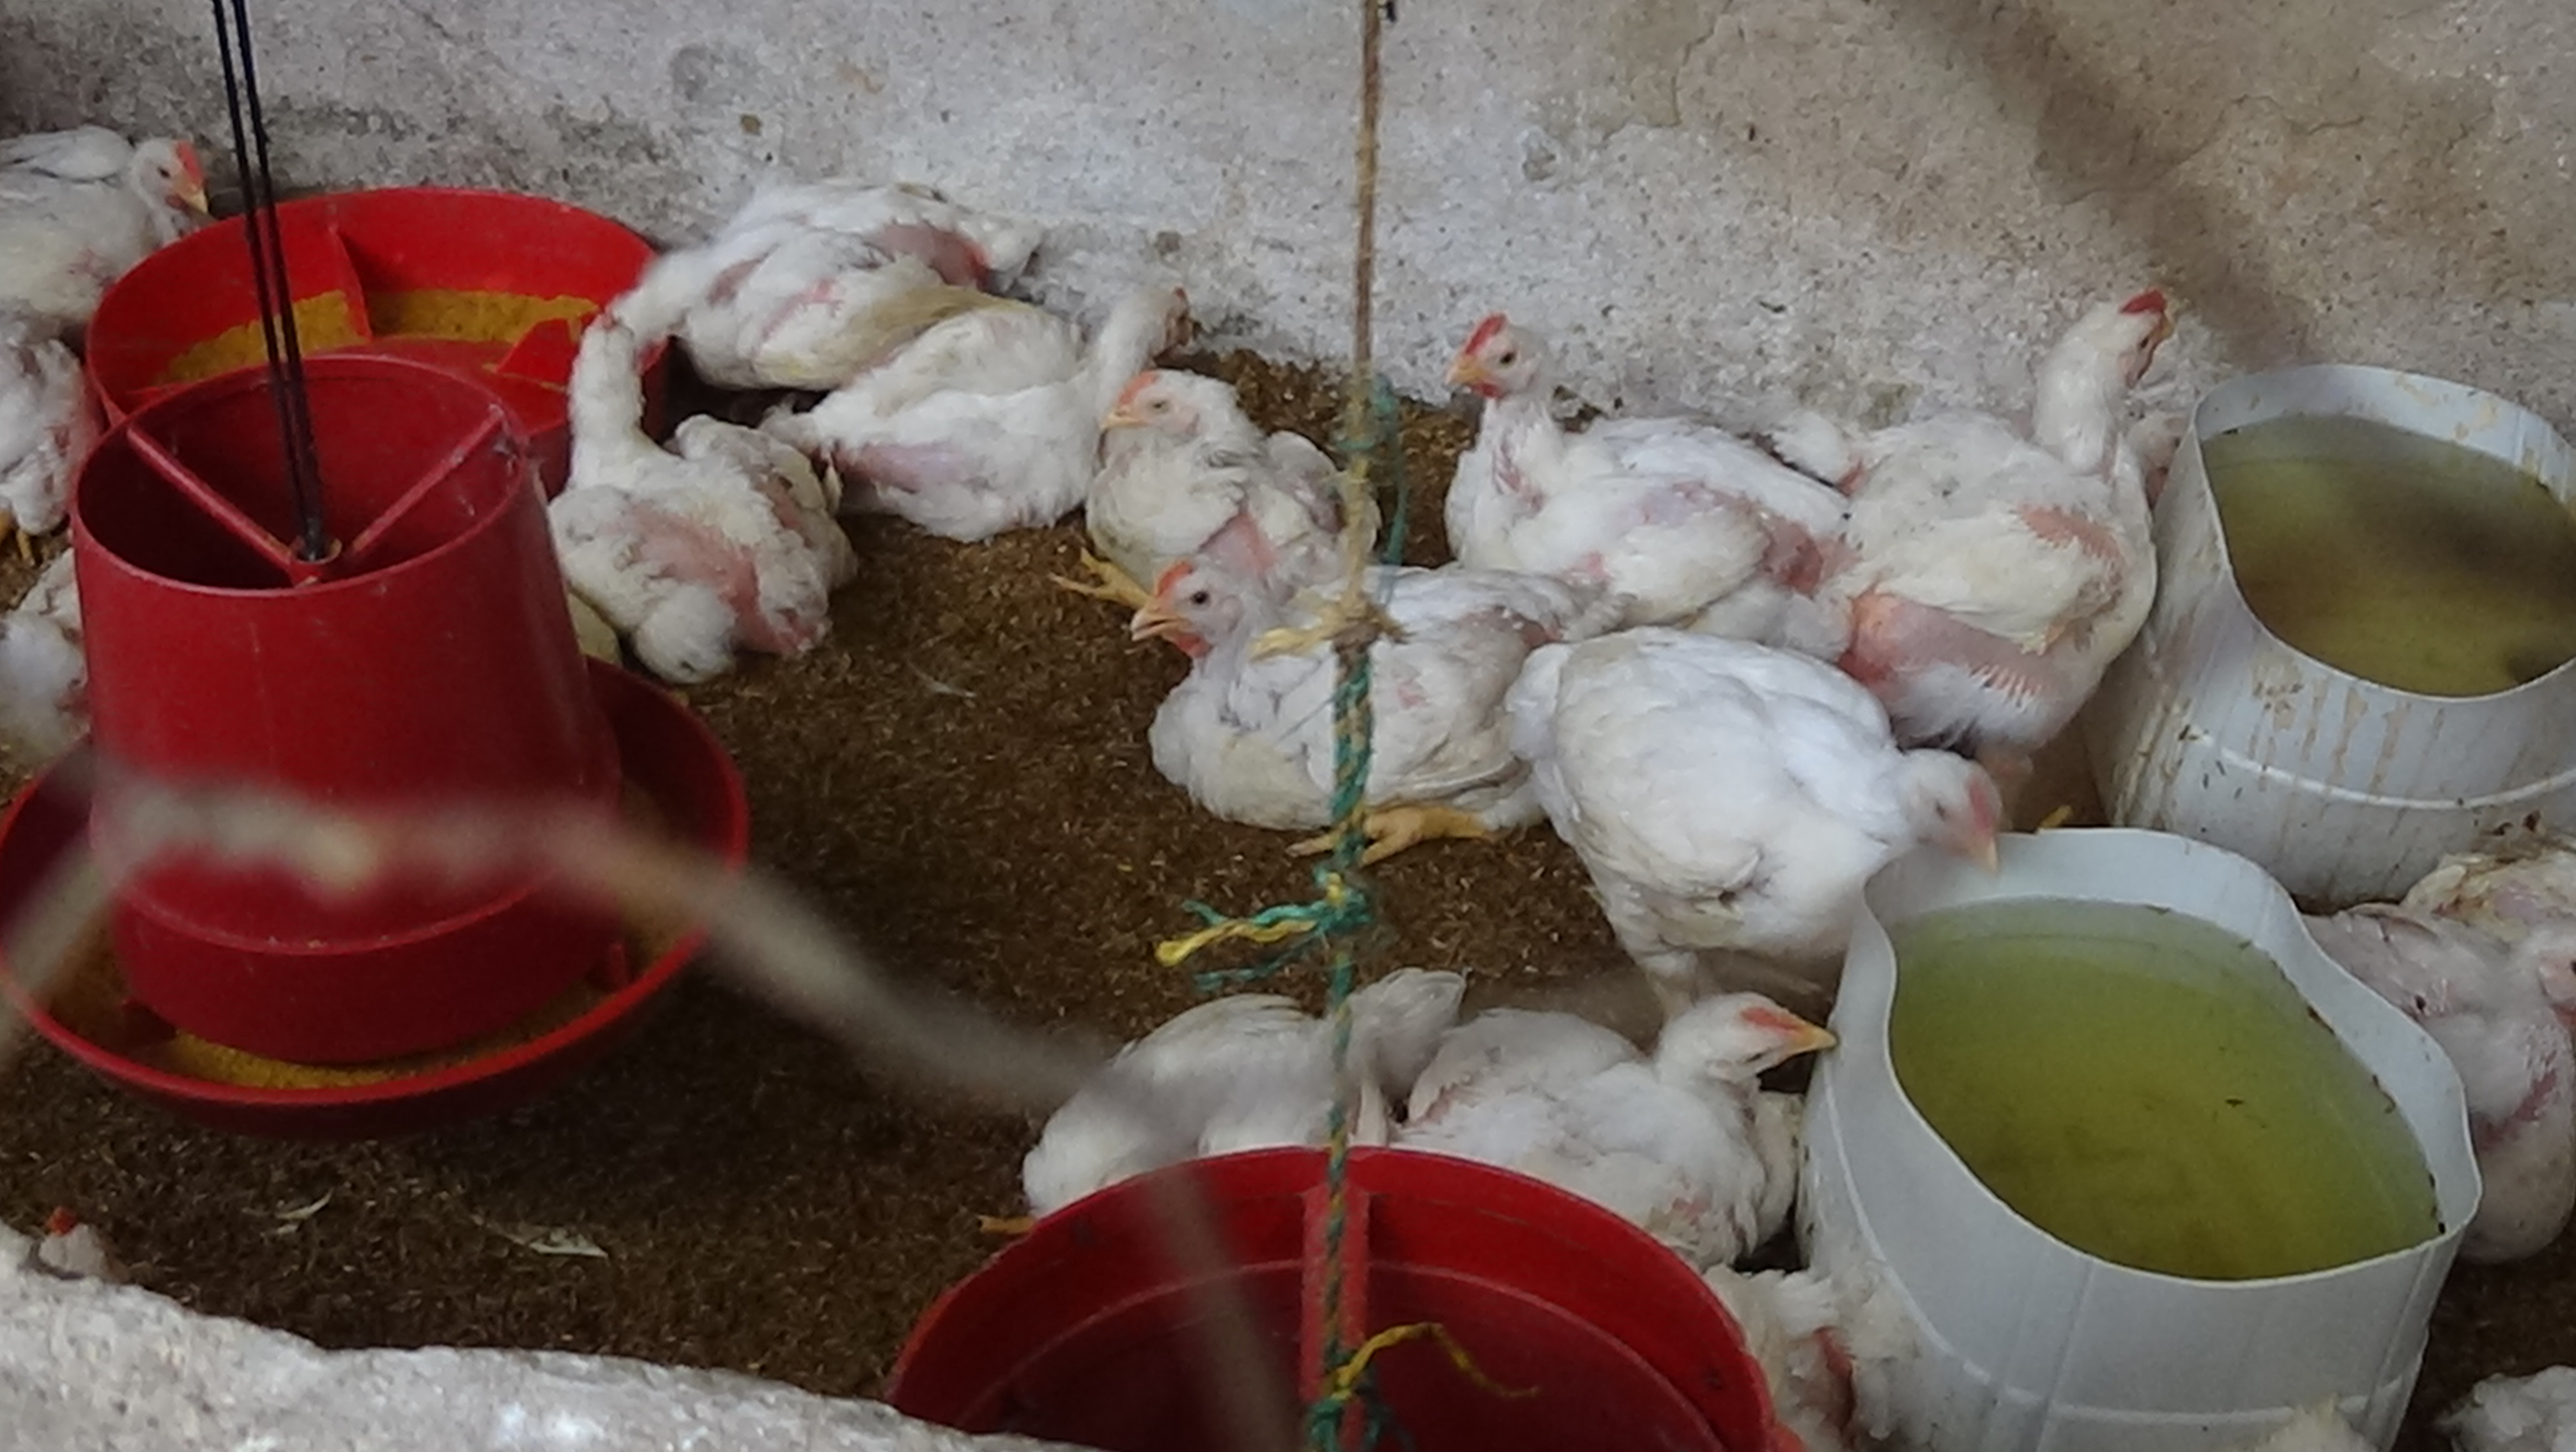Pollos: (1550, 632, 2012, 1015), (1817, 276, 2212, 698), (982, 938, 1477, 1264), (1417, 276, 1835, 650), (1131, 544, 1622, 859), (1394, 956, 1865, 1236), (524, 324, 867, 689), (805, 264, 1215, 538), (584, 166, 1028, 397), (1072, 347, 1376, 629), (0, 131, 228, 361)
